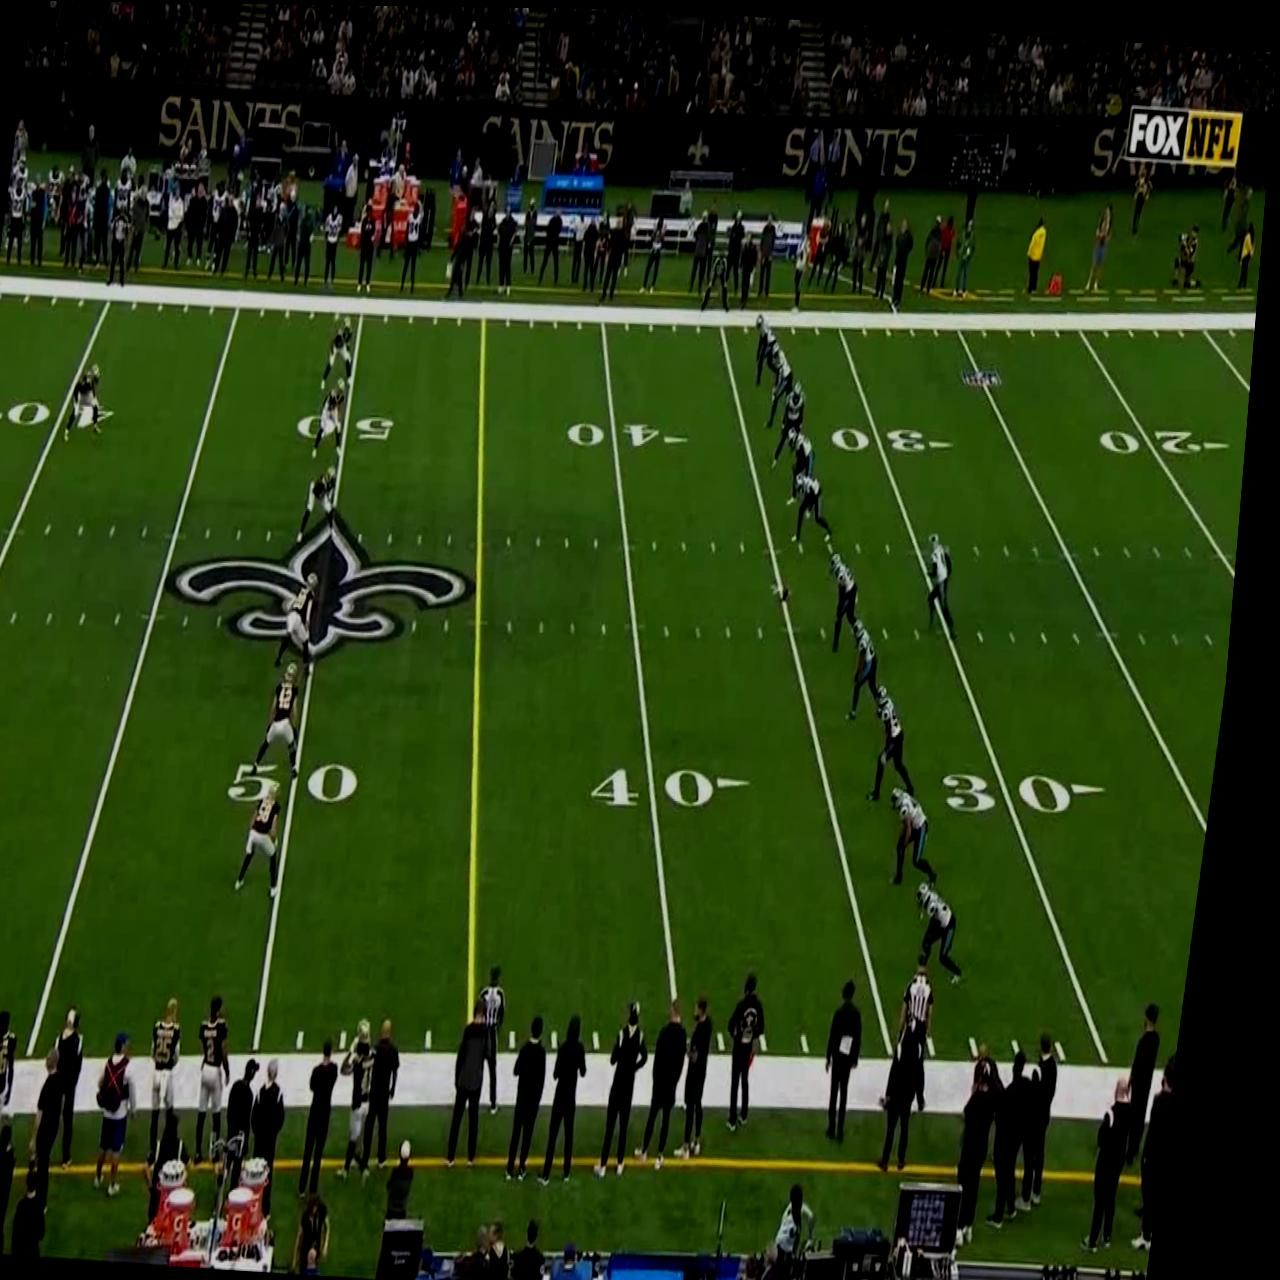20R: (1104, 421, 1238, 456)
30R: (952, 764, 1121, 819), (837, 423, 962, 452)
40L: (0, 396, 120, 434)
40R: (602, 760, 765, 816), (572, 416, 696, 452)
50: (239, 755, 373, 808), (304, 410, 402, 442)
